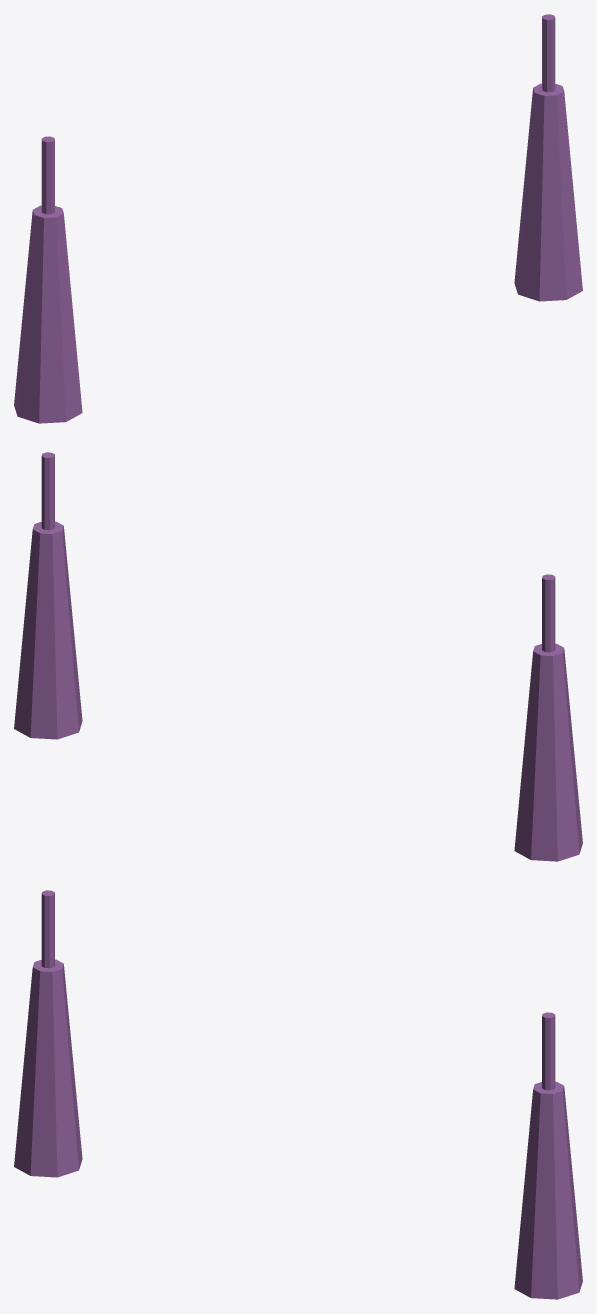
Rendered from Earrings.fbx.
3 renders of one model, top to bottom at view 1: azimuth 30°, elevation 25°; view 2: azimuth 150°, elevation 25°; view 3: azimuth 330°, elevation 25°, orthographic.
Visible parts, largest first — view 1: Earrings; view 2: Earrings; view 3: Earrings.
Boxes of the visible parts, x1,y1,x2,y2 form: Earrings: (14,14,582,423); Earrings: (14,452,582,861); Earrings: (14,890,582,1299).
Size of the model in its own units: 0.1856 by 0.0852 by 0.0203.
